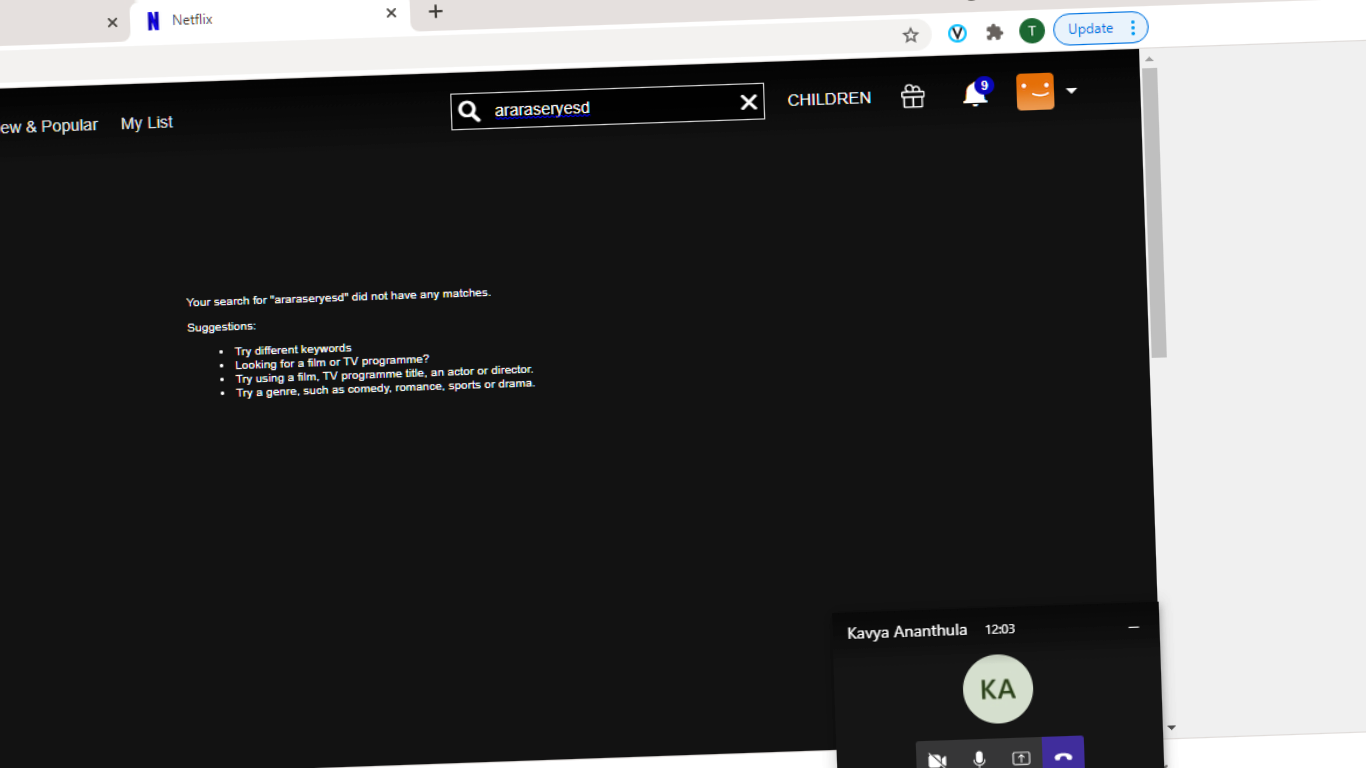noresultsfound: (134, 275, 578, 425)
profileicon: (1011, 60, 1075, 123)
searchicon: (449, 98, 493, 127)
searchtextbox: (442, 81, 794, 144)
